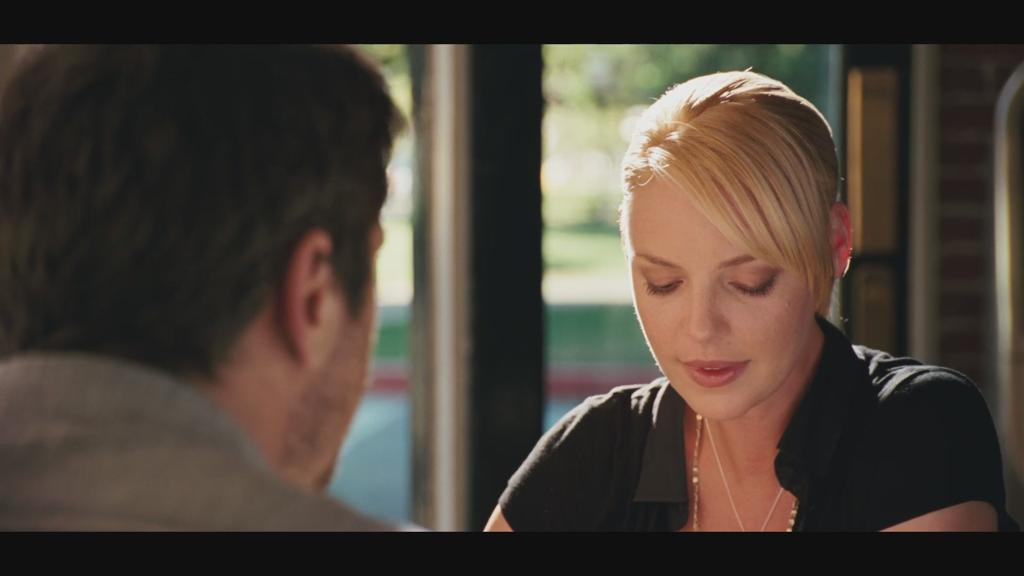face: (196, 130, 402, 496), (636, 176, 808, 418)
